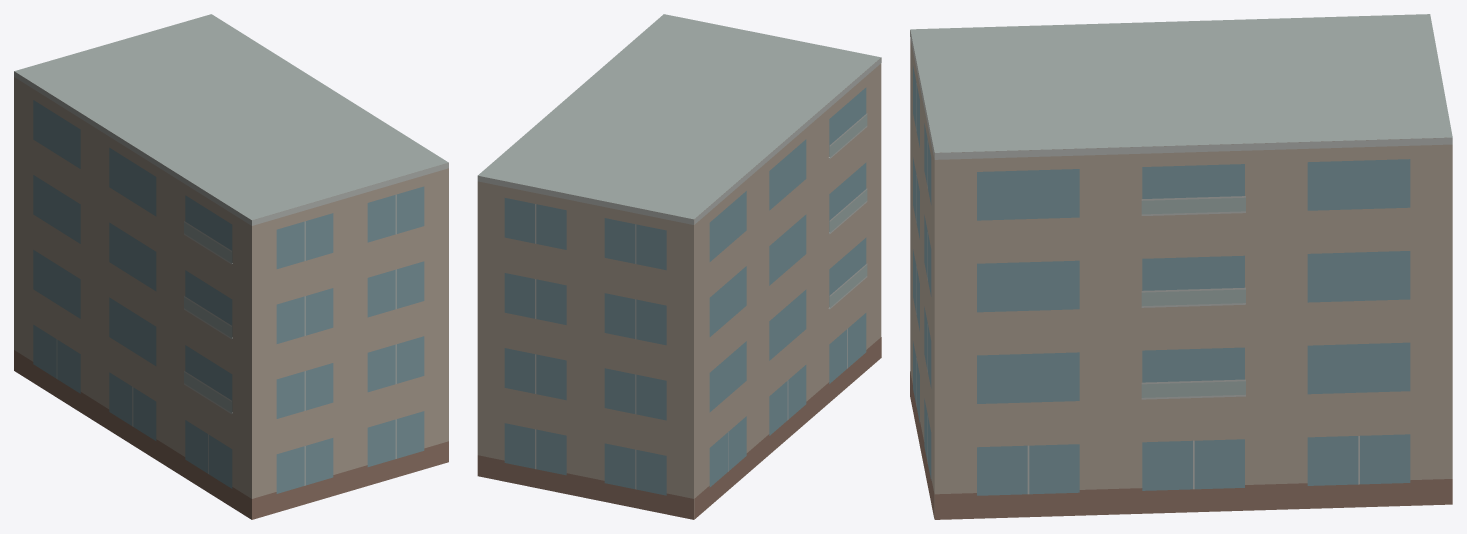
File: survey-upis-32884522.glb
3 views of the same model, side by side, from view 1: azimuth 30°, elevation 25°; view 2: azimuth 150°, elevation 25°; view 3: azimuth 270°, elevation 25° (orthographic). The views are drawn at different scales.
Parts seen in each view (by area): view 1: survey-upis-32884522.tmp; view 2: survey-upis-32884522.tmp; view 3: survey-upis-32884522.tmp.
Part boxes in pixels (x1=…): survey-upis-32884522.tmp: x1=14, y1=14, x2=448, y2=519; survey-upis-32884522.tmp: x1=477, y1=14, x2=881, y2=519; survey-upis-32884522.tmp: x1=910, y1=14, x2=1452, y2=519.
Size of the model in its own units: 10.4 by 12.8 by 17.16.
